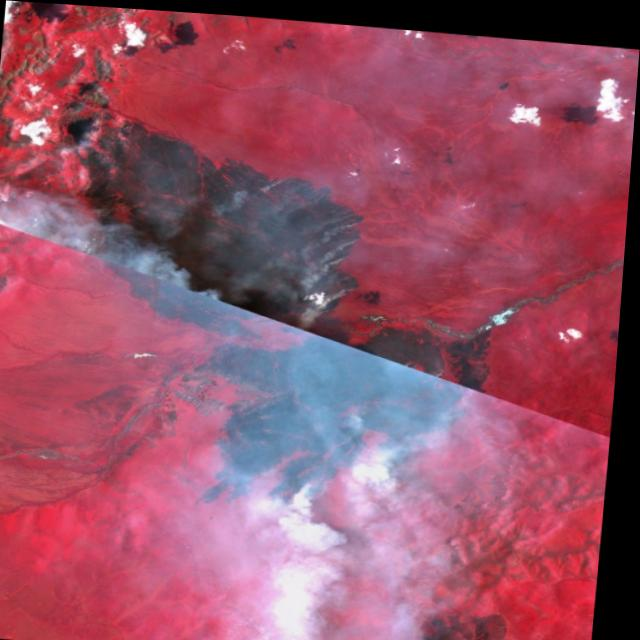fire: (267, 334, 486, 521), (250, 163, 388, 317), (66, 104, 171, 223)
